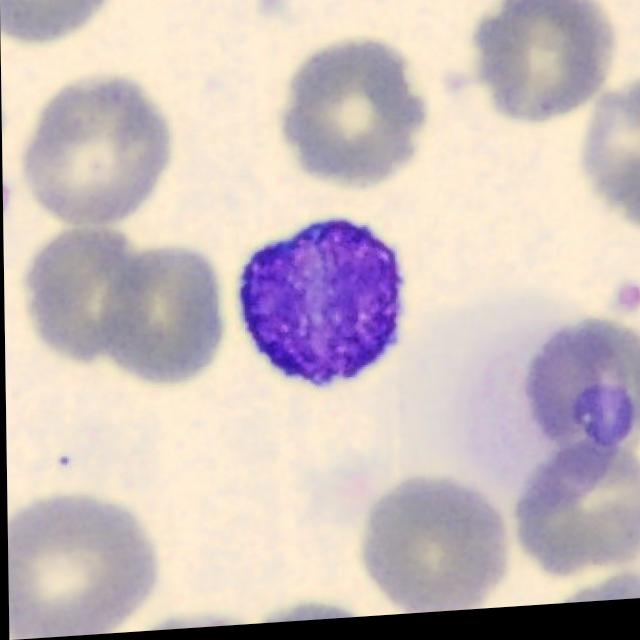Linfocito: (236, 225, 398, 392)
